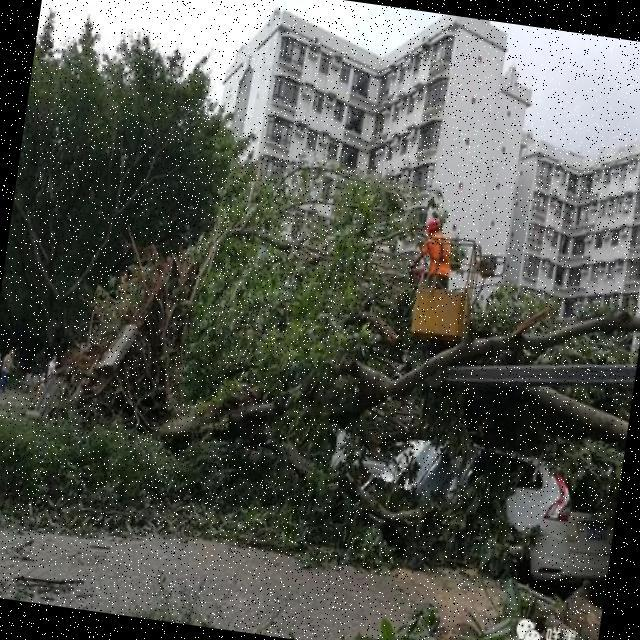fallen_object: (117, 243, 640, 564)
